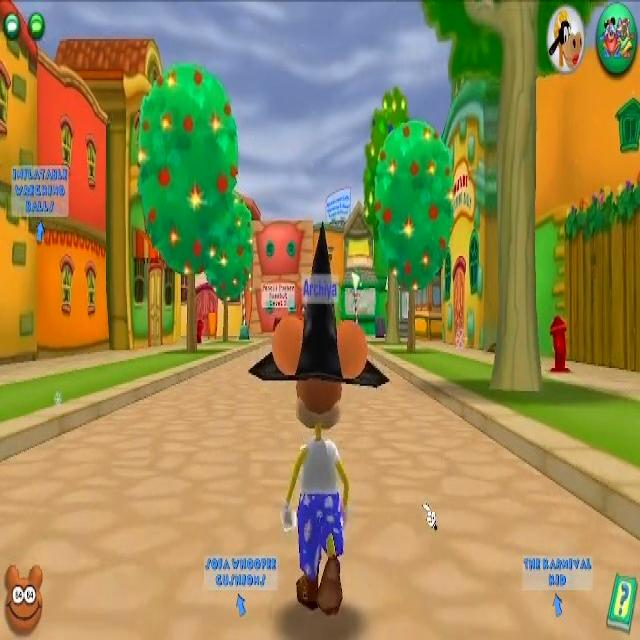pencilpusher: (262, 283, 294, 349)
